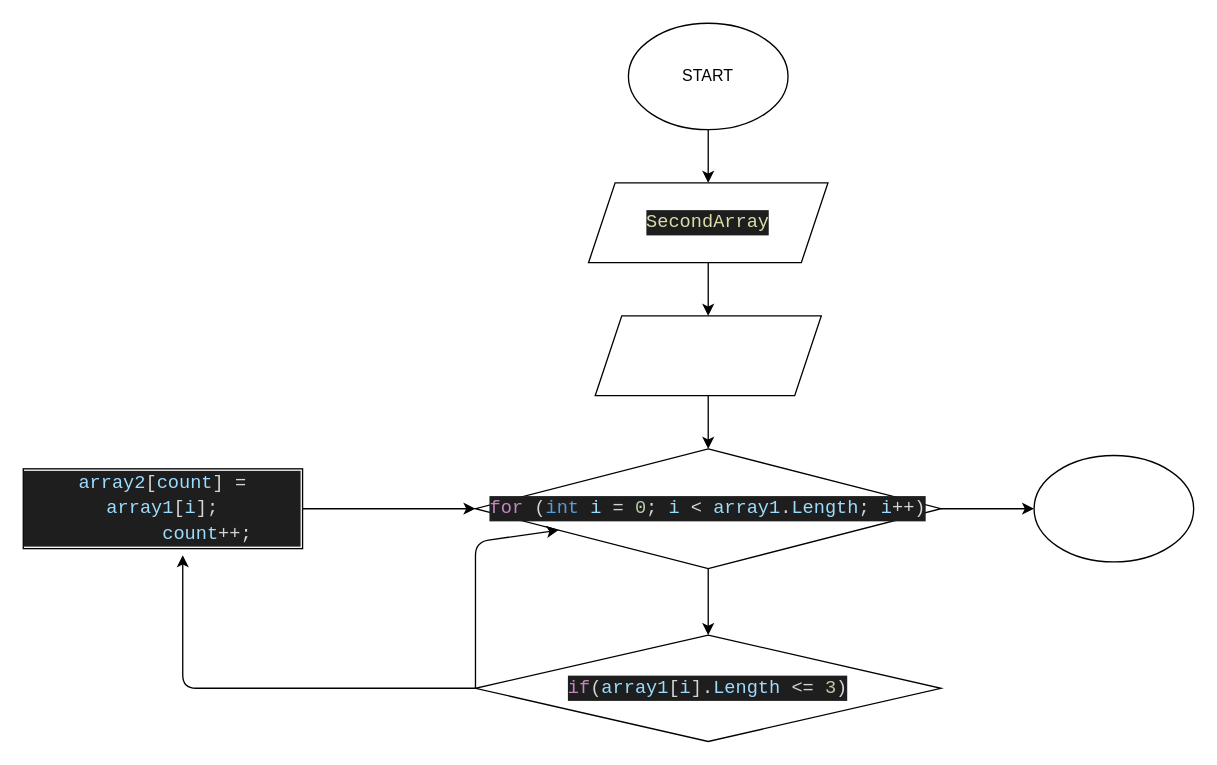
The diagram is 1217 pixels wide and 765 high, and some of its shapes have lost their labels. Each missing label, with the box of its shape:
END: (1033, 454, 1194, 562)
string [] array1 string [] array2 int count = 0: (594, 315, 821, 396)
